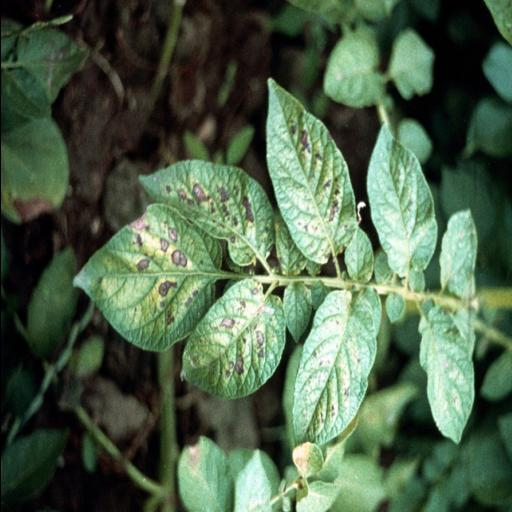disease_tomato: (72, 202, 224, 354), (262, 78, 360, 266), (136, 158, 276, 268), (178, 280, 288, 397)
